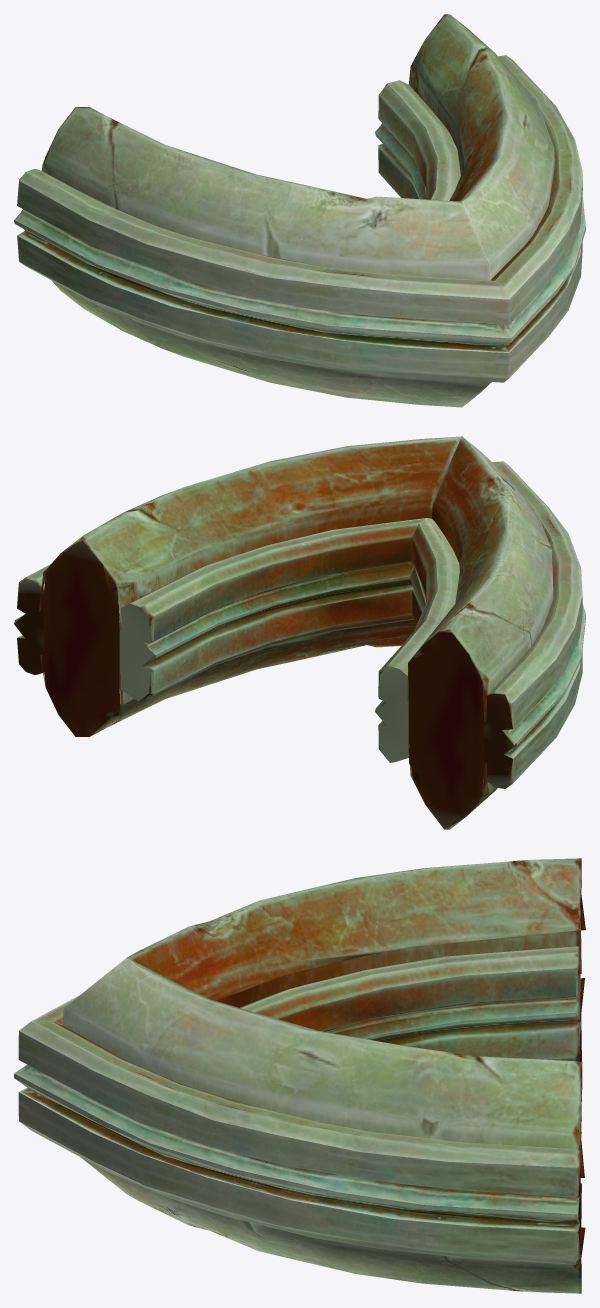
File: Ruins_Collumn_Arch.fbx
The picture shows the model from 3 angles, top to bottom: view 1: azimuth 30°, elevation 25°; view 2: azimuth 150°, elevation 25°; view 3: azimuth 270°, elevation 25°; orthographic projection. The views are drawn at different scales.
Visible parts, largest first — view 1: Ruins_Collumn_Arch; view 2: Ruins_Collumn_Arch; view 3: Ruins_Collumn_Arch.
Part boxes in pixels (left/top/right/bottom): Ruins_Collumn_Arch: left=14, top=14, right=585, bottom=407; Ruins_Collumn_Arch: left=14, top=436, right=585, bottom=829; Ruins_Collumn_Arch: left=14, top=858, right=585, bottom=1293.
Bounding box in the file's own units: 1106 × 433 × 952.
